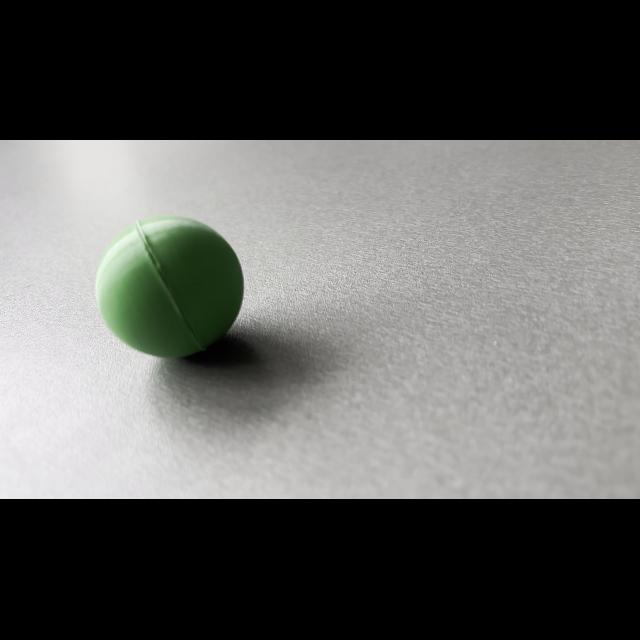objects: (88, 208, 248, 362)
